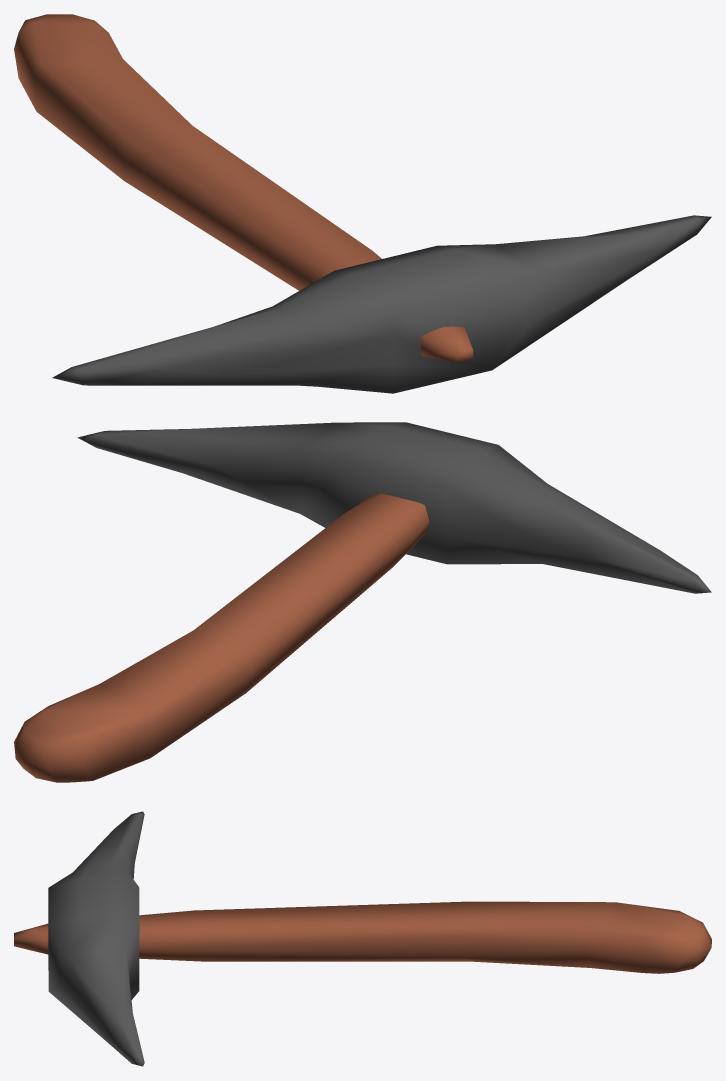
The model's file is Pickaxe.fbx.
The picture shows the model from 3 angles, top to bottom: view 1: azimuth 30°, elevation 25°; view 2: azimuth 150°, elevation 25°; view 3: azimuth 270°, elevation 25°; orthographic projection. The views are drawn at different scales.
Parts seen in each view (by area): view 1: Pickaxe; view 2: Pickaxe; view 3: Pickaxe.
Part boxes in pixels (x1,y1,x2,y2): Pickaxe: (14,14,711,393); Pickaxe: (14,422,711,782); Pickaxe: (14,811,711,1066).
Size of the model in its own units: 222 by 33.15 by 256.
